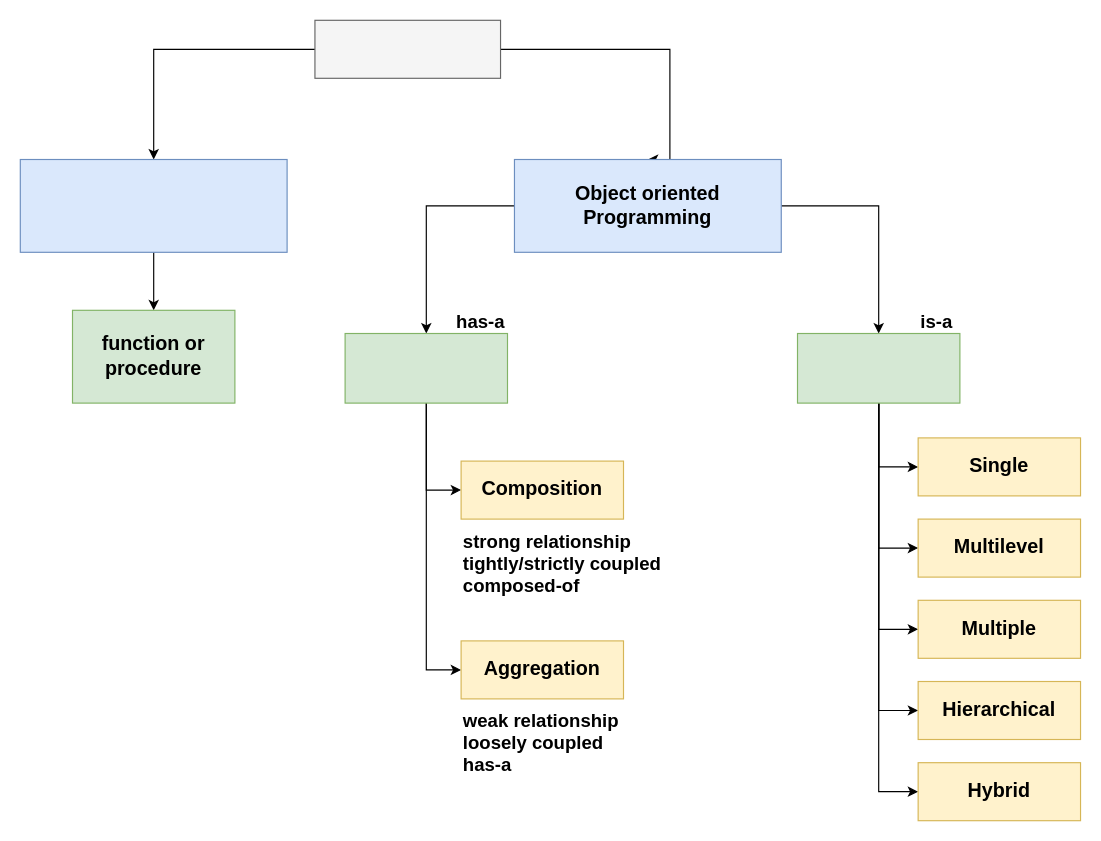
Some shapes in this 1101 by 841 pixel diagram are drawn without their labels. The centre of each missing label's shape, as x and y in pixels:
"Association" goes at (425,367).
"Code Reuse" goes at (407,48).
"Inheritance" goes at (878,367).
"Procedure oriented Programming" goes at (153,205).
